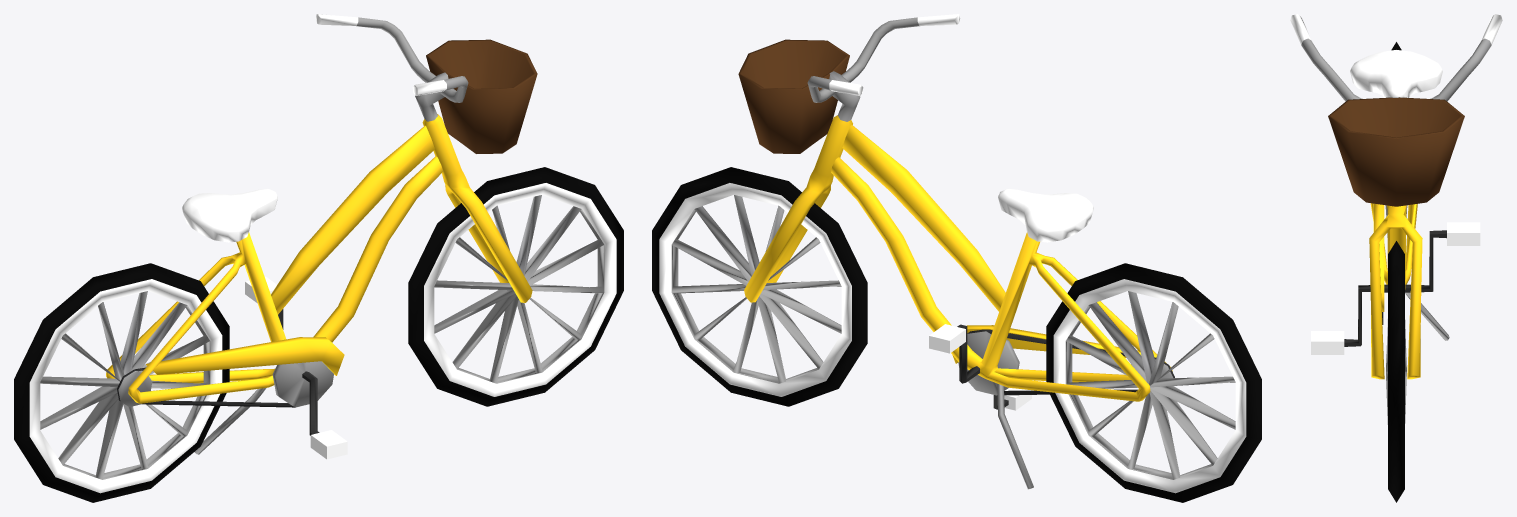
Rendered from BicycleBeachCruiserBasketYellowKickstand.glb.
3 renders of one model, left to right at view 1: azimuth 30°, elevation 25°; view 2: azimuth 150°, elevation 25°; view 3: azimuth 270°, elevation 25°, orthographic. The views are drawn at different scales.
Visible parts, largest first — view 1: BicycleBeachCruiserBasketYellowKickstand; view 2: BicycleBeachCruiserBasketYellowKickstand; view 3: BicycleBeachCruiserBasketYellowKickstand.
Boxes of the visible parts, x1,y1,x2,y2 form: BicycleBeachCruiserBasketYellowKickstand: [14, 14, 623, 502]; BicycleBeachCruiserBasketYellowKickstand: [652, 14, 1261, 502]; BicycleBeachCruiserBasketYellowKickstand: [1290, 14, 1502, 502].
Bounding box in the file's own units: 2.47 × 1.5 × 0.7197.
1 material, 1 textured.
